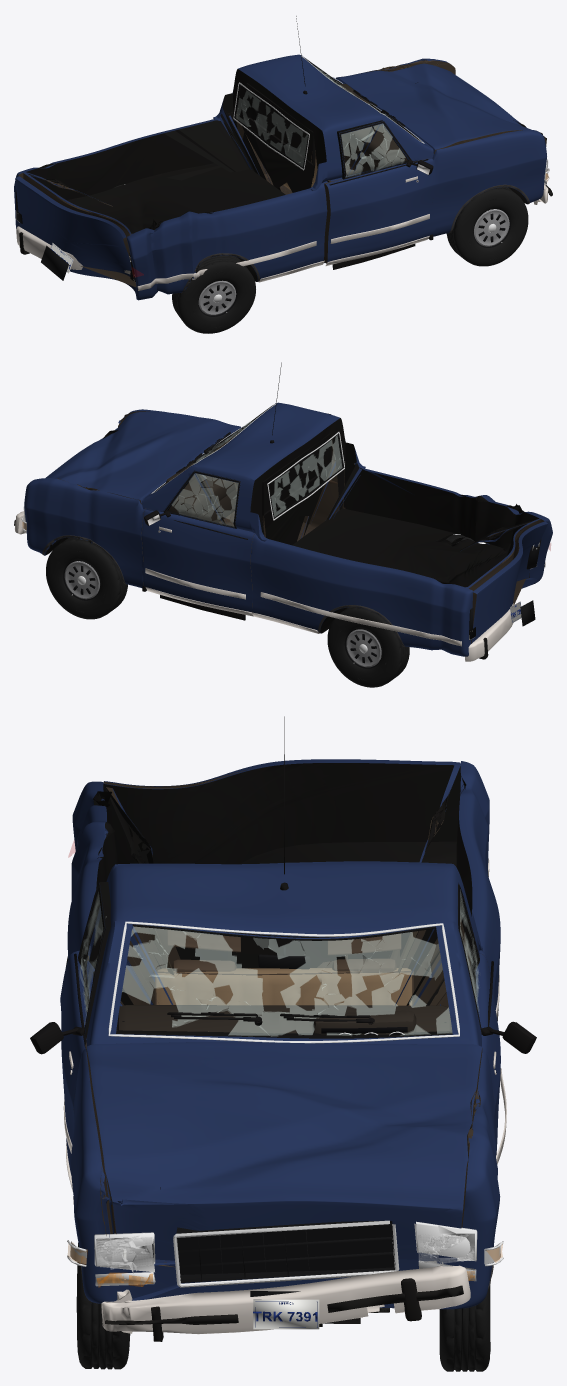
File: pickup87_rear_corner_R_d1_lod1.glb
The picture shows the model from 3 angles, top to bottom: view 1: azimuth 30°, elevation 25°; view 2: azimuth 150°, elevation 25°; view 3: azimuth 270°, elevation 25°; orthographic projection. The views are drawn at different scales.
Parts seen in each view (by area): view 1: Body, Hood, Door_FR, Tailgate, Wheel_FR_mesh, Wheel_RR_mesh, Glass, Interior, Trim_FR, Trim, Glass_FR, Ends (+1 smaller); view 2: Body, Hood, Door_FL, Wheel_FL_mesh, Wheel_RL_mesh, Tailgate, Glass, Trim, Interior, Trim_FL, Glass_FL, Bumper_R (+1 smaller); view 3: Body, Hood, Interior, Glass, Ends, Bumper_F, Door_FR, Wheel_FL_mesh, Wheel_FR_mesh, Door_FL, Lamps_Head, Trim_FR (+4 smaller).
Boxes of the visible parts, left/top/right/bottom form: Body: left=14, top=54, right=546, bottom=300; Hood: left=336, top=63, right=530, bottom=153; Door_FR: left=324, top=120, right=434, bottom=263; Tailgate: left=15, top=176, right=136, bottom=286; Wheel_FR_mesh: left=446, top=187, right=528, bottom=266; Wheel_RR_mesh: left=172, top=255, right=255, bottom=333; Glass: left=233, top=56, right=424, bottom=170; Interior: left=283, top=83, right=405, bottom=190; Trim_FR: left=325, top=121, right=433, bottom=269; Trim: left=137, top=16, right=529, bottom=293; Glass_FR: left=339, top=121, right=408, bottom=179; Ends: left=15, top=159, right=549, bottom=282; Body: left=24, top=402, right=552, bottom=656; Hood: left=45, top=412, right=240, bottom=504; Door_FL: left=141, top=470, right=255, bottom=612; Wheel_FL_mesh: left=46, top=537, right=127, bottom=619; Wheel_RL_mesh: left=327, top=607, right=409, bottom=687; Tailgate: left=471, top=521, right=547, bottom=643; Glass: left=151, top=404, right=344, bottom=520; Trim: left=42, top=362, right=545, bottom=646; Interior: left=166, top=463, right=238, bottom=526; Trim_FL: left=144, top=471, right=253, bottom=620; Glass_FL: left=167, top=471, right=240, bottom=528; Bumper_R: left=465, top=603, right=513, bottom=661; Body: left=67, top=761, right=500, bottom=1309; Hood: left=86, top=1042, right=482, bottom=1267; Interior: left=116, top=930, right=451, bottom=1035; Glass: left=108, top=921, right=459, bottom=1043; Ends: left=67, top=1220, right=503, bottom=1329; Bumper_F: left=101, top=1265, right=470, bottom=1341; Door_FR: left=60, top=882, right=110, bottom=1174; Wheel_FL_mesh: left=439, top=1285, right=490, bottom=1371; Wheel_FR_mesh: left=76, top=1243, right=130, bottom=1369; Door_FL: left=458, top=883, right=500, bottom=1155; Lamps_Head: left=96, top=1234, right=474, bottom=1269; Trim_FR: left=30, top=883, right=104, bottom=1192.
Size of the model in its own units: 4.99 by 2.58 by 2.34.
Materials: 34 (5 with a texture image).
